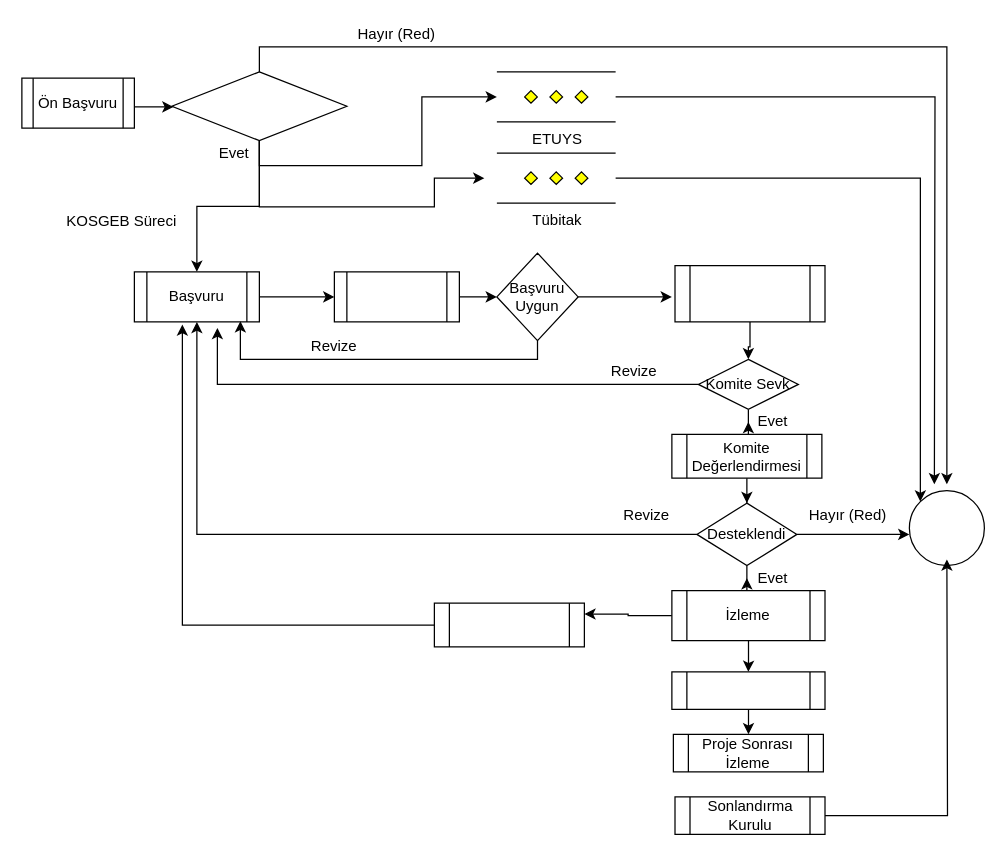
The diagram is 1006 pixels wide and 856 high, and some of its shapes have lost their labels. The shapes that lost their labels are listed below. From the top down, each one's centre as x and y in pixels, then its label:
point 259,106: Ön Başvuru Uygun
point 396,296: Ön Değerlendirme
point 749,293: Kurul Değerlendirmesi
point 946,527: Bitiş
point 508,624: Revize Başvurusu
point 748,690: Ödeme
